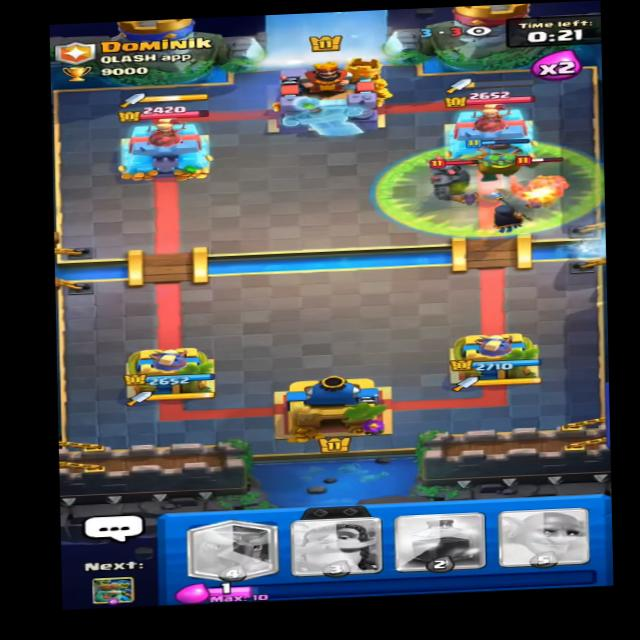pekka: (413, 154, 494, 204)
royal-ghost: (514, 157, 573, 205)
